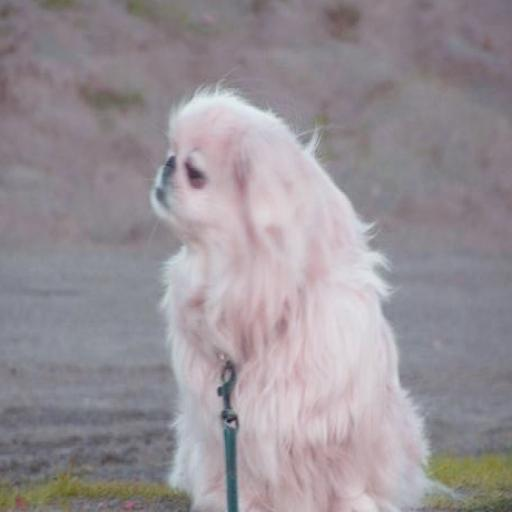dog_face: (148, 97, 299, 244)
